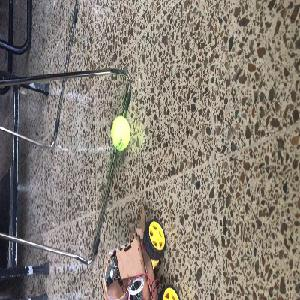Ball: (110, 116, 130, 151)
Robot: (100, 203, 180, 299)
